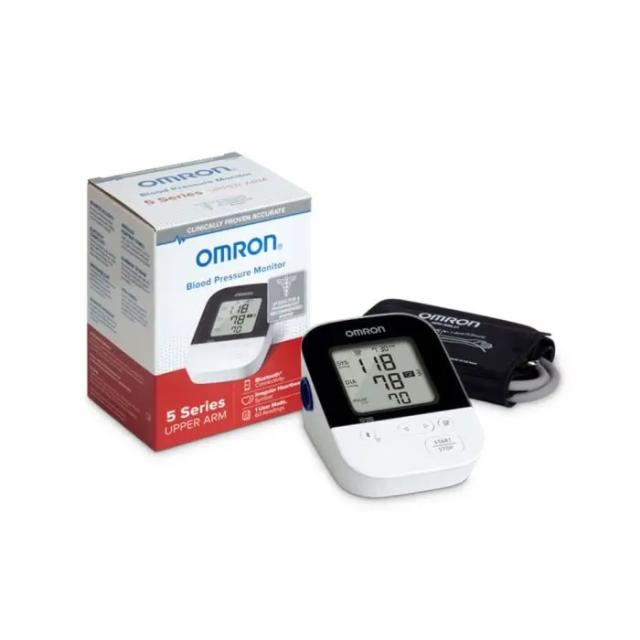dia: (370, 369, 407, 394)
pul: (385, 388, 415, 407)
ssd: (330, 337, 439, 419)
sys: (354, 349, 400, 377)
